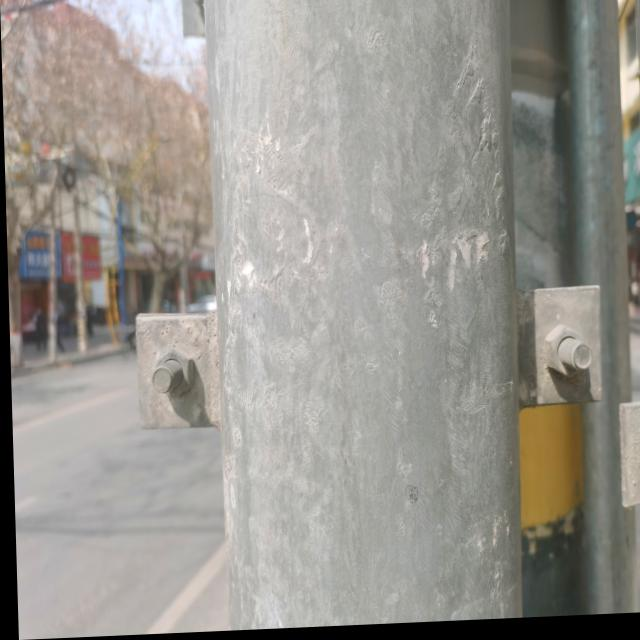Regular bolt: (543, 332, 588, 385), (151, 352, 194, 405)
